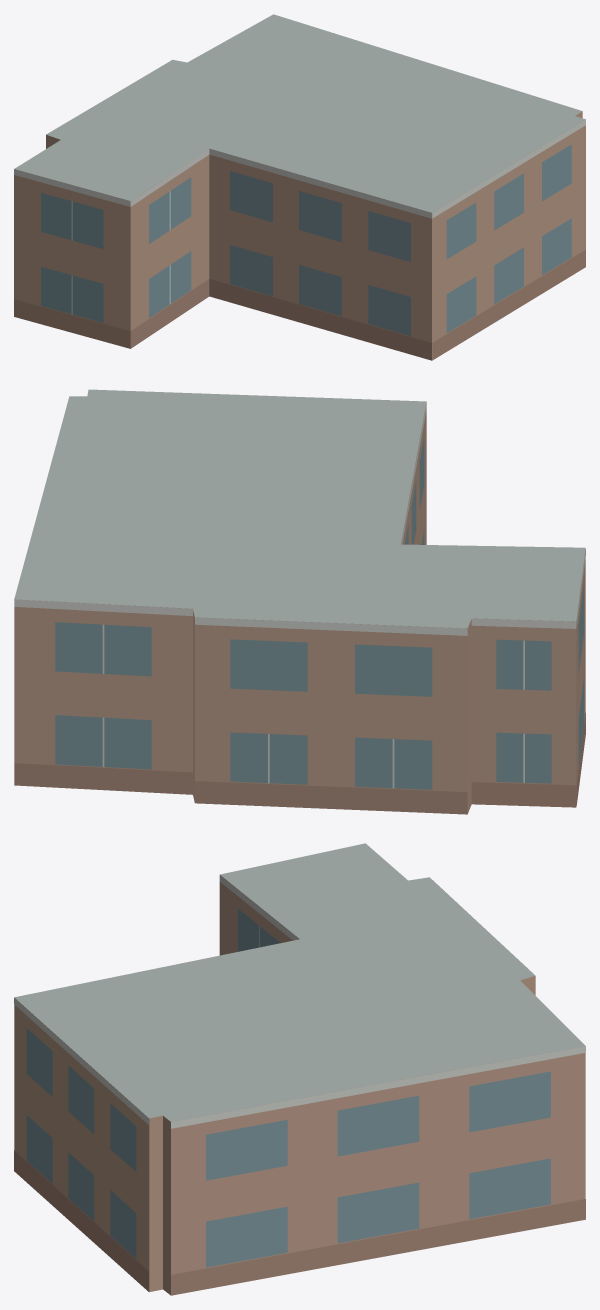
The model's file is survey-upis-32758714.glb.
3 renders of one model, top to bottom at view 1: azimuth 30°, elevation 25°; view 2: azimuth 150°, elevation 25°; view 3: azimuth 270°, elevation 25°, orthographic. The views are drawn at different scales.
Visible parts, largest first — view 1: survey-upis-32758714.tmp; view 2: survey-upis-32758714.tmp; view 3: survey-upis-32758714.tmp.
Part boxes in pixels (x1=…): survey-upis-32758714.tmp: x1=14, y1=14, x2=585, y2=360; survey-upis-32758714.tmp: x1=14, y1=389, x2=585, y2=814; survey-upis-32758714.tmp: x1=14, y1=843, x2=585, y2=1295.
Bounding box in the file's own units: 20.99 × 6.1 × 18.2.
